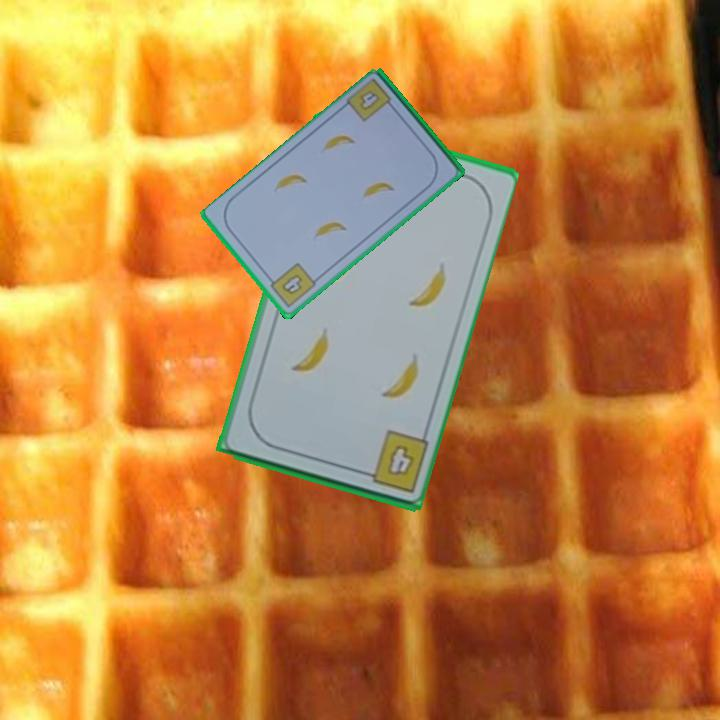4b: (355, 426, 431, 496), (264, 259, 319, 311), (356, 87, 383, 114)
